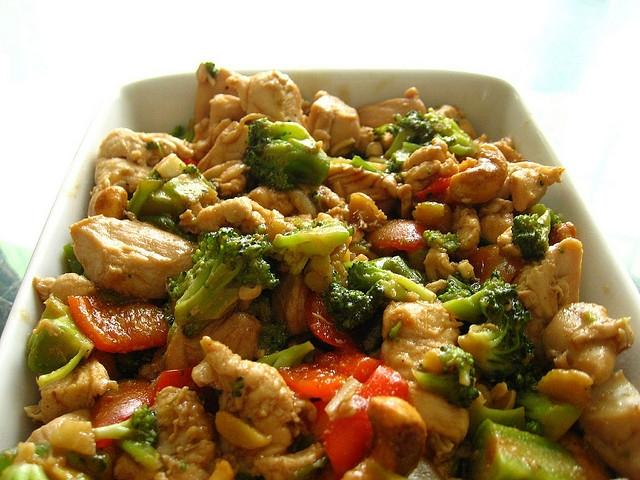bell pepper: (67, 296, 172, 353), (313, 395, 374, 480), (121, 366, 202, 422), (89, 380, 152, 428), (315, 342, 385, 384), (277, 360, 347, 400), (306, 292, 354, 348), (462, 243, 526, 284), (358, 363, 416, 408), (362, 219, 437, 251), (414, 177, 452, 202)
broccoli: (164, 226, 280, 328), (458, 288, 547, 394), (448, 417, 587, 480), (244, 117, 330, 192), (27, 293, 94, 389), (442, 269, 519, 325), (319, 270, 390, 330), (347, 261, 437, 304), (138, 174, 210, 223), (519, 392, 583, 440), (91, 404, 158, 447), (422, 107, 478, 158), (411, 368, 479, 408), (384, 112, 435, 160), (469, 390, 525, 430), (512, 211, 552, 262), (128, 168, 170, 216), (256, 341, 314, 370), (1, 444, 52, 475), (439, 345, 474, 386), (382, 255, 424, 284), (258, 322, 291, 356), (350, 155, 390, 177), (423, 230, 461, 253), (437, 280, 472, 302), (384, 149, 413, 174), (141, 215, 175, 229)
